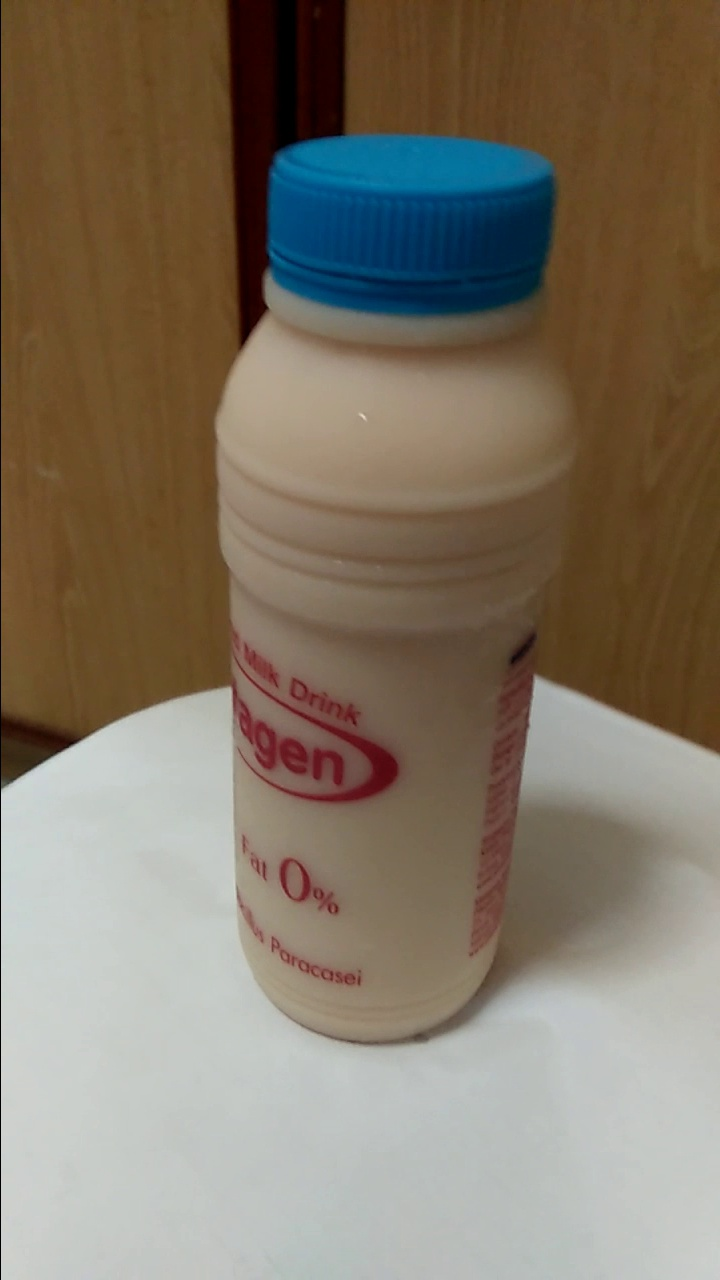mlik2: (223, 131, 531, 1047)
